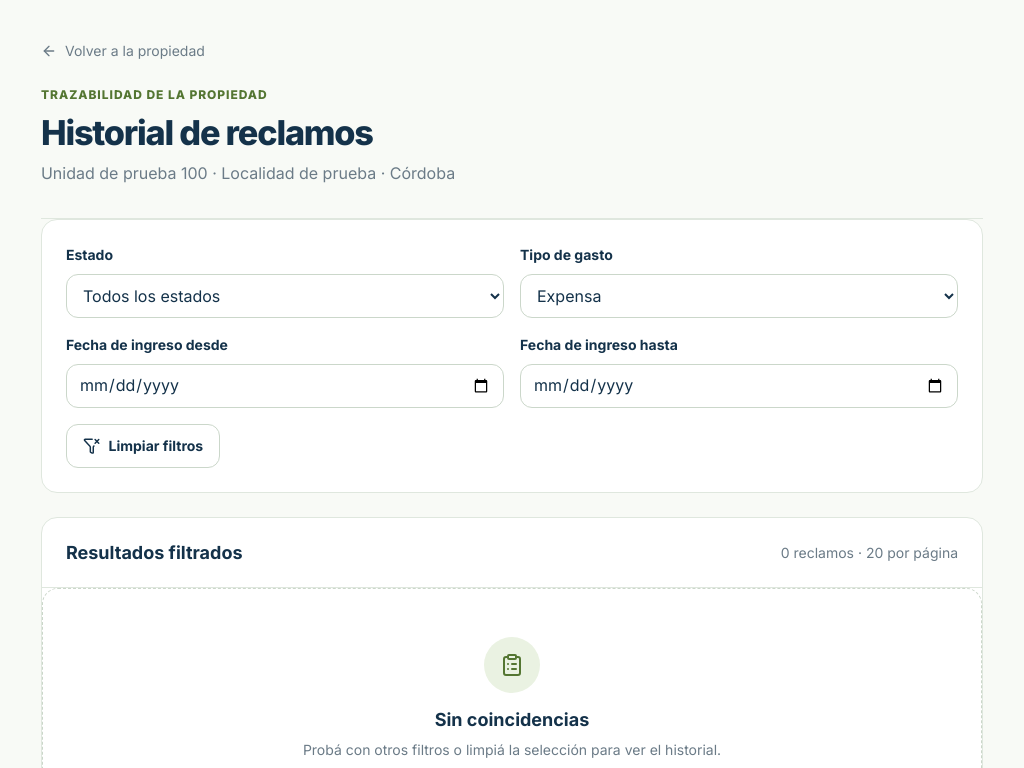
Test: historial por propiedad › explica el vacío y permite limpiar los filtros
Check: the heading "Sin coincidencias" is shown, box [435,709,589,730]
Click the button "Limpiar filtros".
click(143, 446)  # box [66,424,220,468]
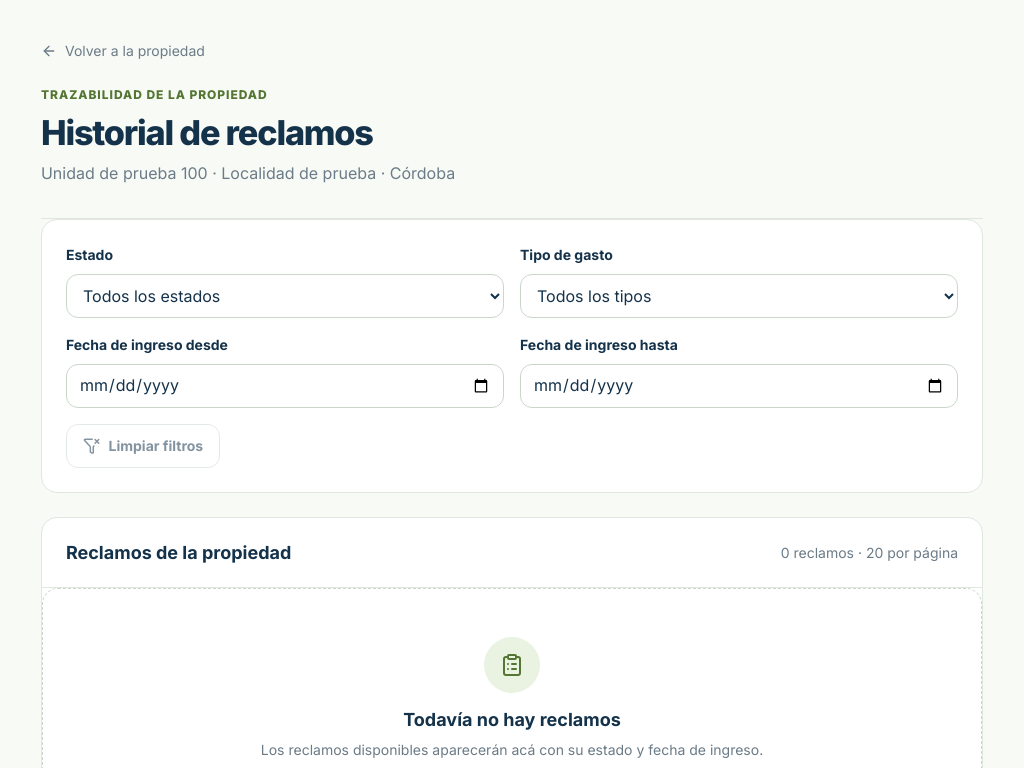
Check: the heading "Todavía no hay reclamos" is shown, box [403,709,621,730]
